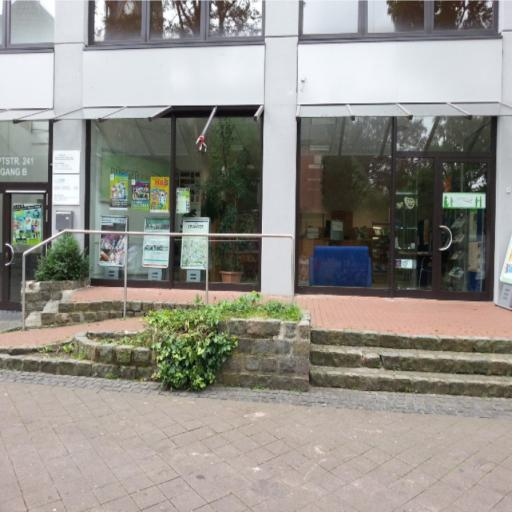elevator: (90, 117, 260, 284), (299, 118, 391, 287)
pole: (0, 308, 190, 393)
shelf: (0, 372, 511, 511)
sofa: (310, 330, 511, 397)
